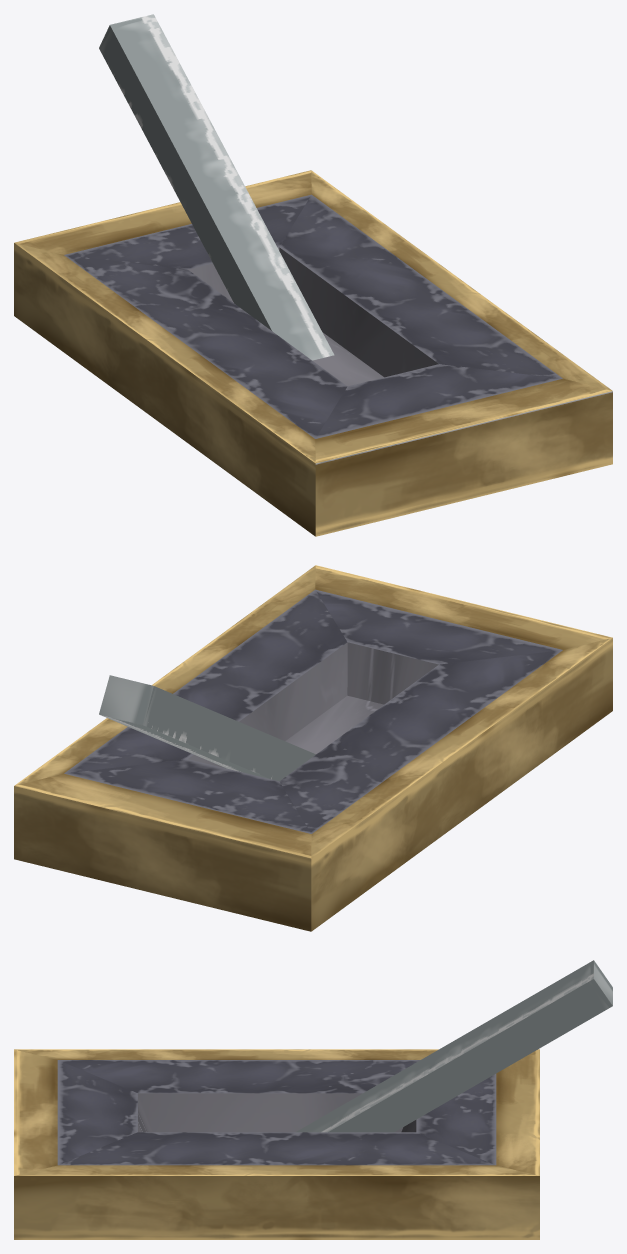
Rendered from lever.fbx.
3 renders of one model, top to bottom at view 1: azimuth 30°, elevation 25°; view 2: azimuth 150°, elevation 25°; view 3: azimuth 270°, elevation 25°, orthographic. The views are drawn at different scales.
Visible parts, largest first — view 1: Box, Lever; view 2: Box, Lever; view 3: Box, Lever.
Part boxes in pixels (<box>): Box: <box>14,170,612,536</box>; Lever: <box>99,14,334,360</box>; Box: <box>14,565,612,931</box>; Lever: <box>99,675,315,781</box>; Box: <box>14,1049,539,1239</box>; Lever: <box>296,960,612,1132</box>.
Size of the model in its own units: 114 by 90.44 by 228.
